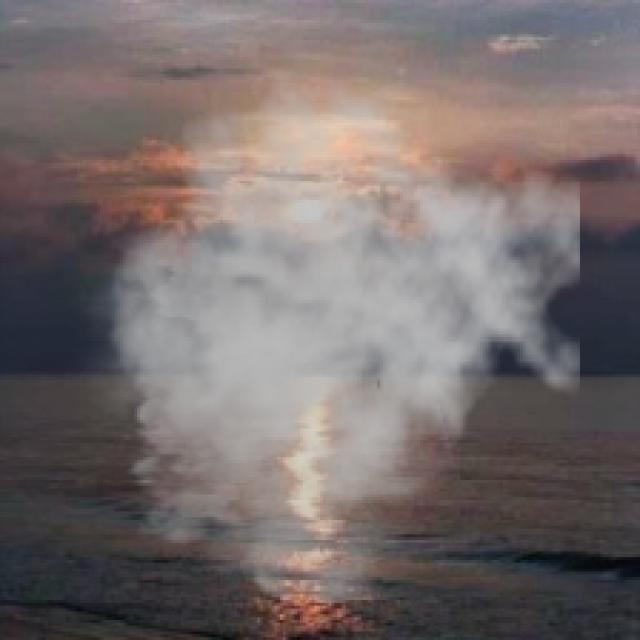Smoke: (60, 65, 580, 606)
